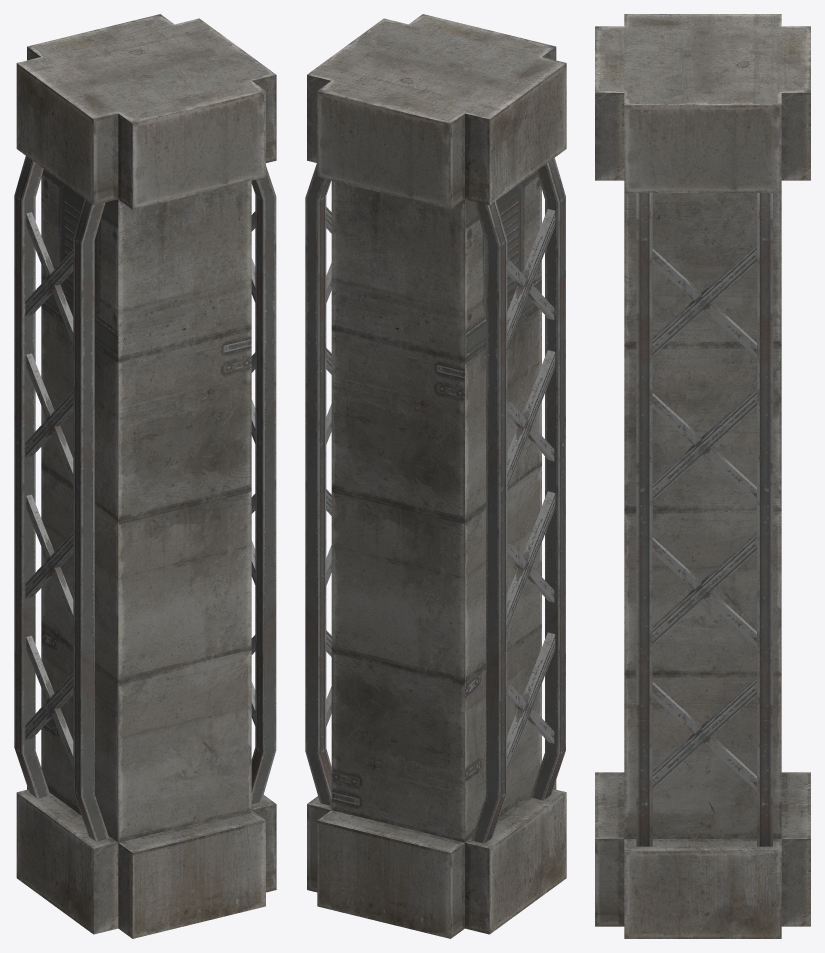
File: CP_Column_Concrete_A_04.fbx
The picture shows the model from 3 angles, left to right: view 1: azimuth 30°, elevation 25°; view 2: azimuth 150°, elevation 25°; view 3: azimuth 270°, elevation 25°; orthographic projection. The views are drawn at different scales.
Visible parts, largest first — view 1: CP_Column_Concrete_A_04; view 2: CP_Column_Concrete_A_04; view 3: CP_Column_Concrete_A_04.
Boxes of the visible parts, x1,y1,x2,y2 form: CP_Column_Concrete_A_04: (14, 14, 276, 938); CP_Column_Concrete_A_04: (305, 14, 566, 938); CP_Column_Concrete_A_04: (595, 14, 810, 938).
Size of the model in its own units: 99.92 by 400 by 93.9.
